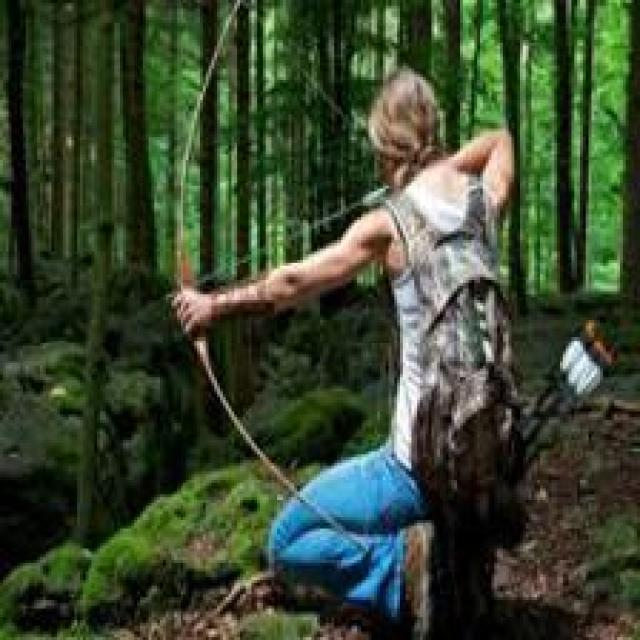X-Bow: (164, 1, 396, 582)
